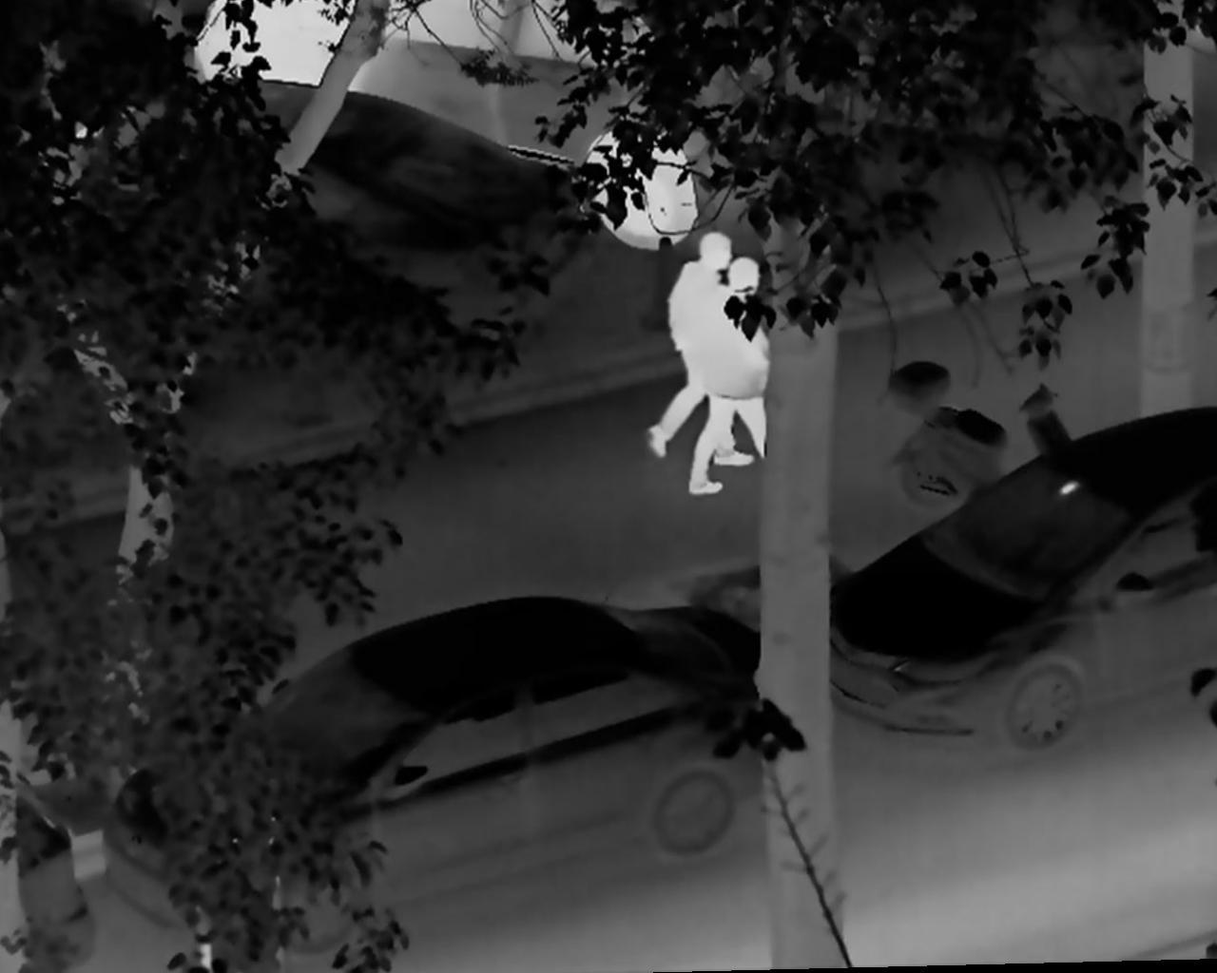person: (647, 224, 756, 471), (684, 256, 784, 496)
